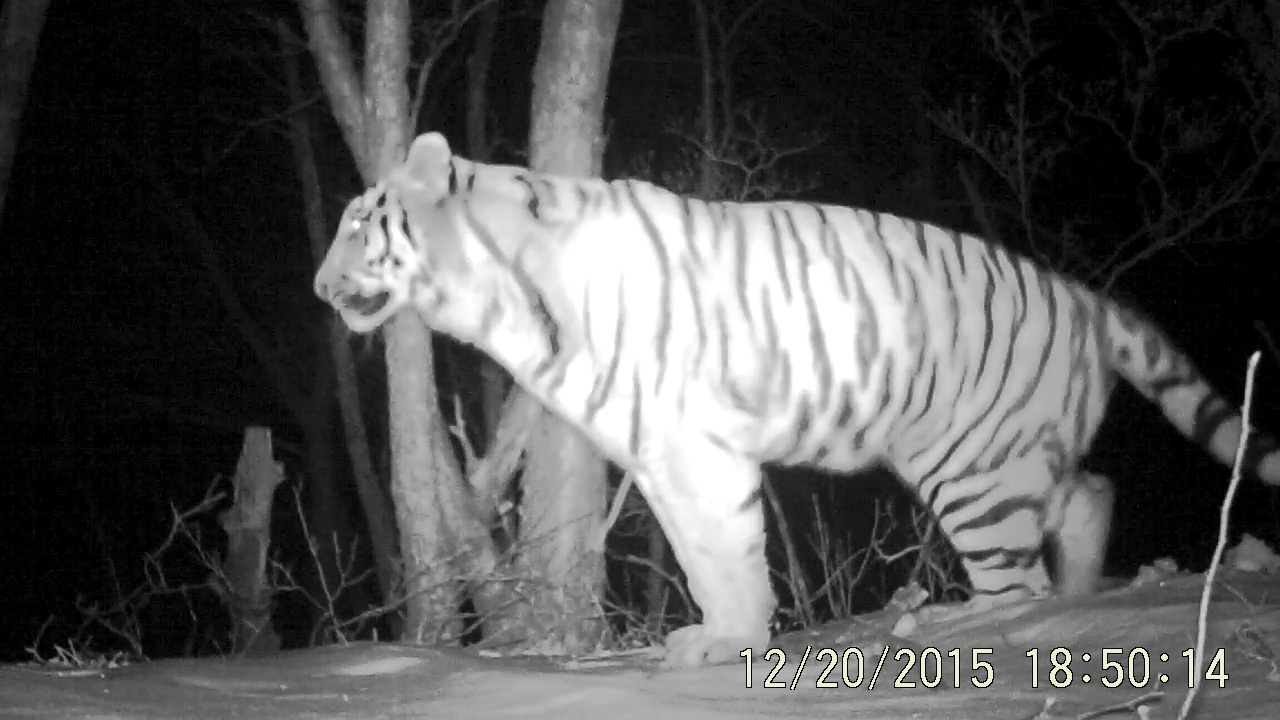Tiger: (268, 109, 1280, 640)
